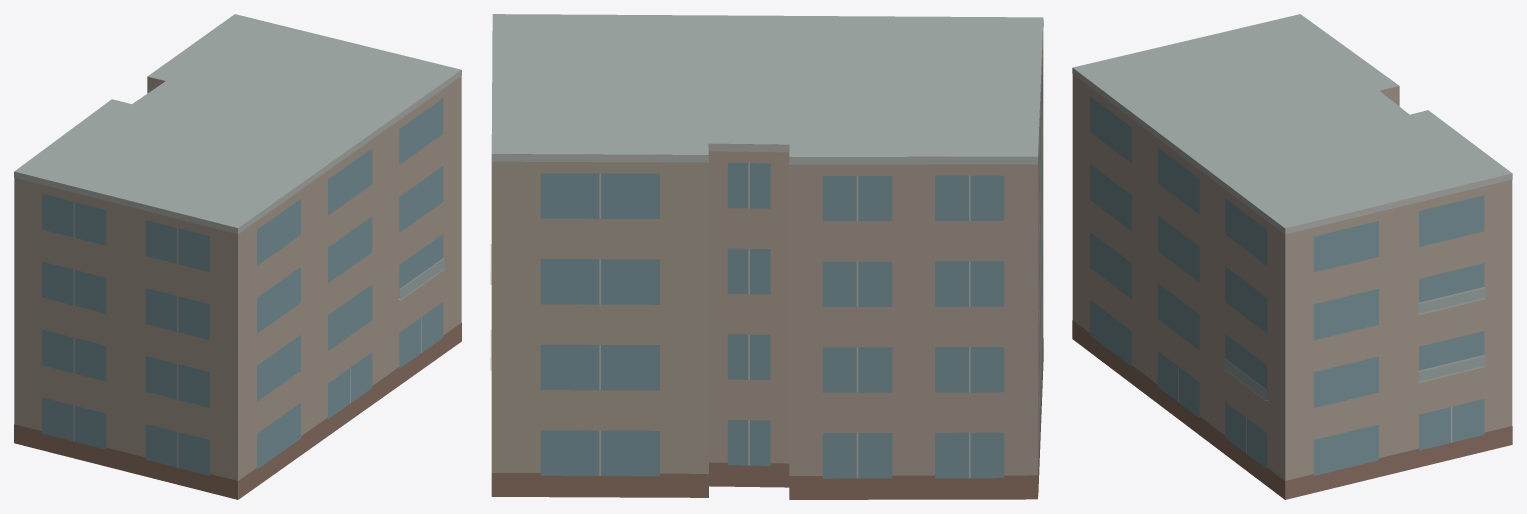
Rendered from survey-upis-32696155.glb.
3 views of the same model, side by side, from view 1: azimuth 30°, elevation 25°; view 2: azimuth 150°, elevation 25°; view 3: azimuth 270°, elevation 25° (orthographic). The views are drawn at different scales.
Parts seen in each view (by area): view 1: survey-upis-32696155.tmp; view 2: survey-upis-32696155.tmp; view 3: survey-upis-32696155.tmp.
Boxes of the visible parts, box(x1,y1,x2,y2) form: survey-upis-32696155.tmp: box(14, 14, 461, 499); survey-upis-32696155.tmp: box(490, 14, 1043, 499); survey-upis-32696155.tmp: box(1072, 14, 1512, 499).
Bounding box in the file's own units: 18.31 × 10.8 × 15.88.
